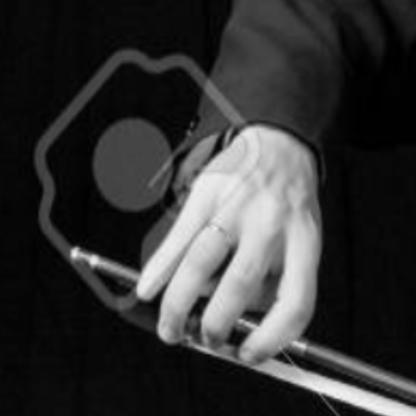bad: (126, 143, 333, 378)
